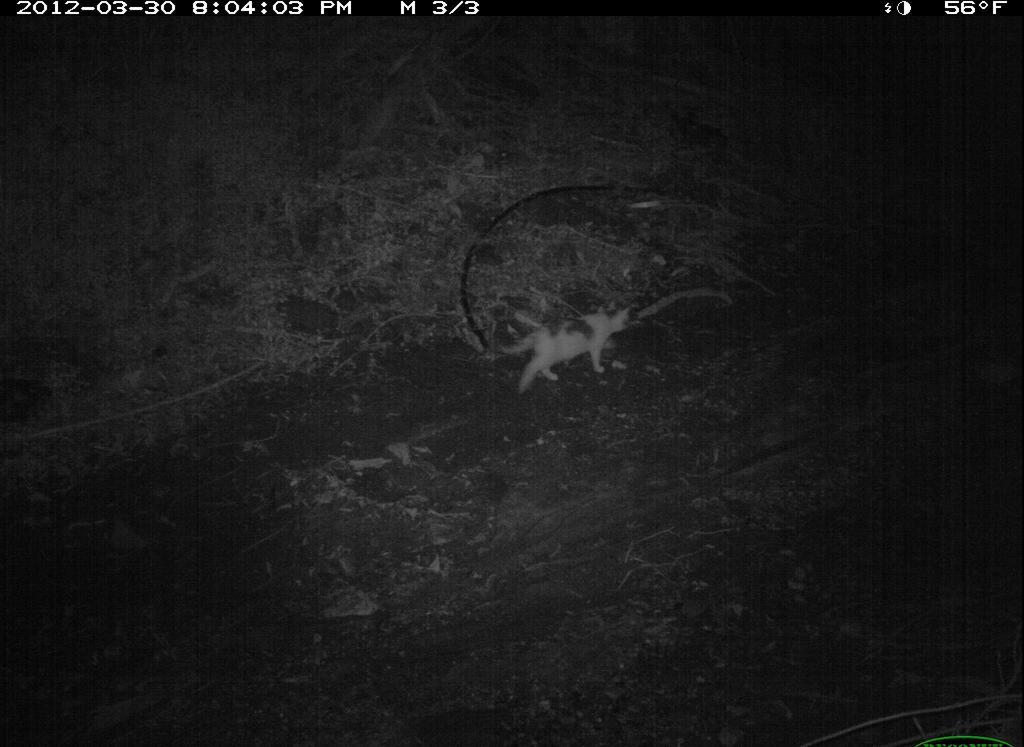cat: (495, 300, 641, 402)
